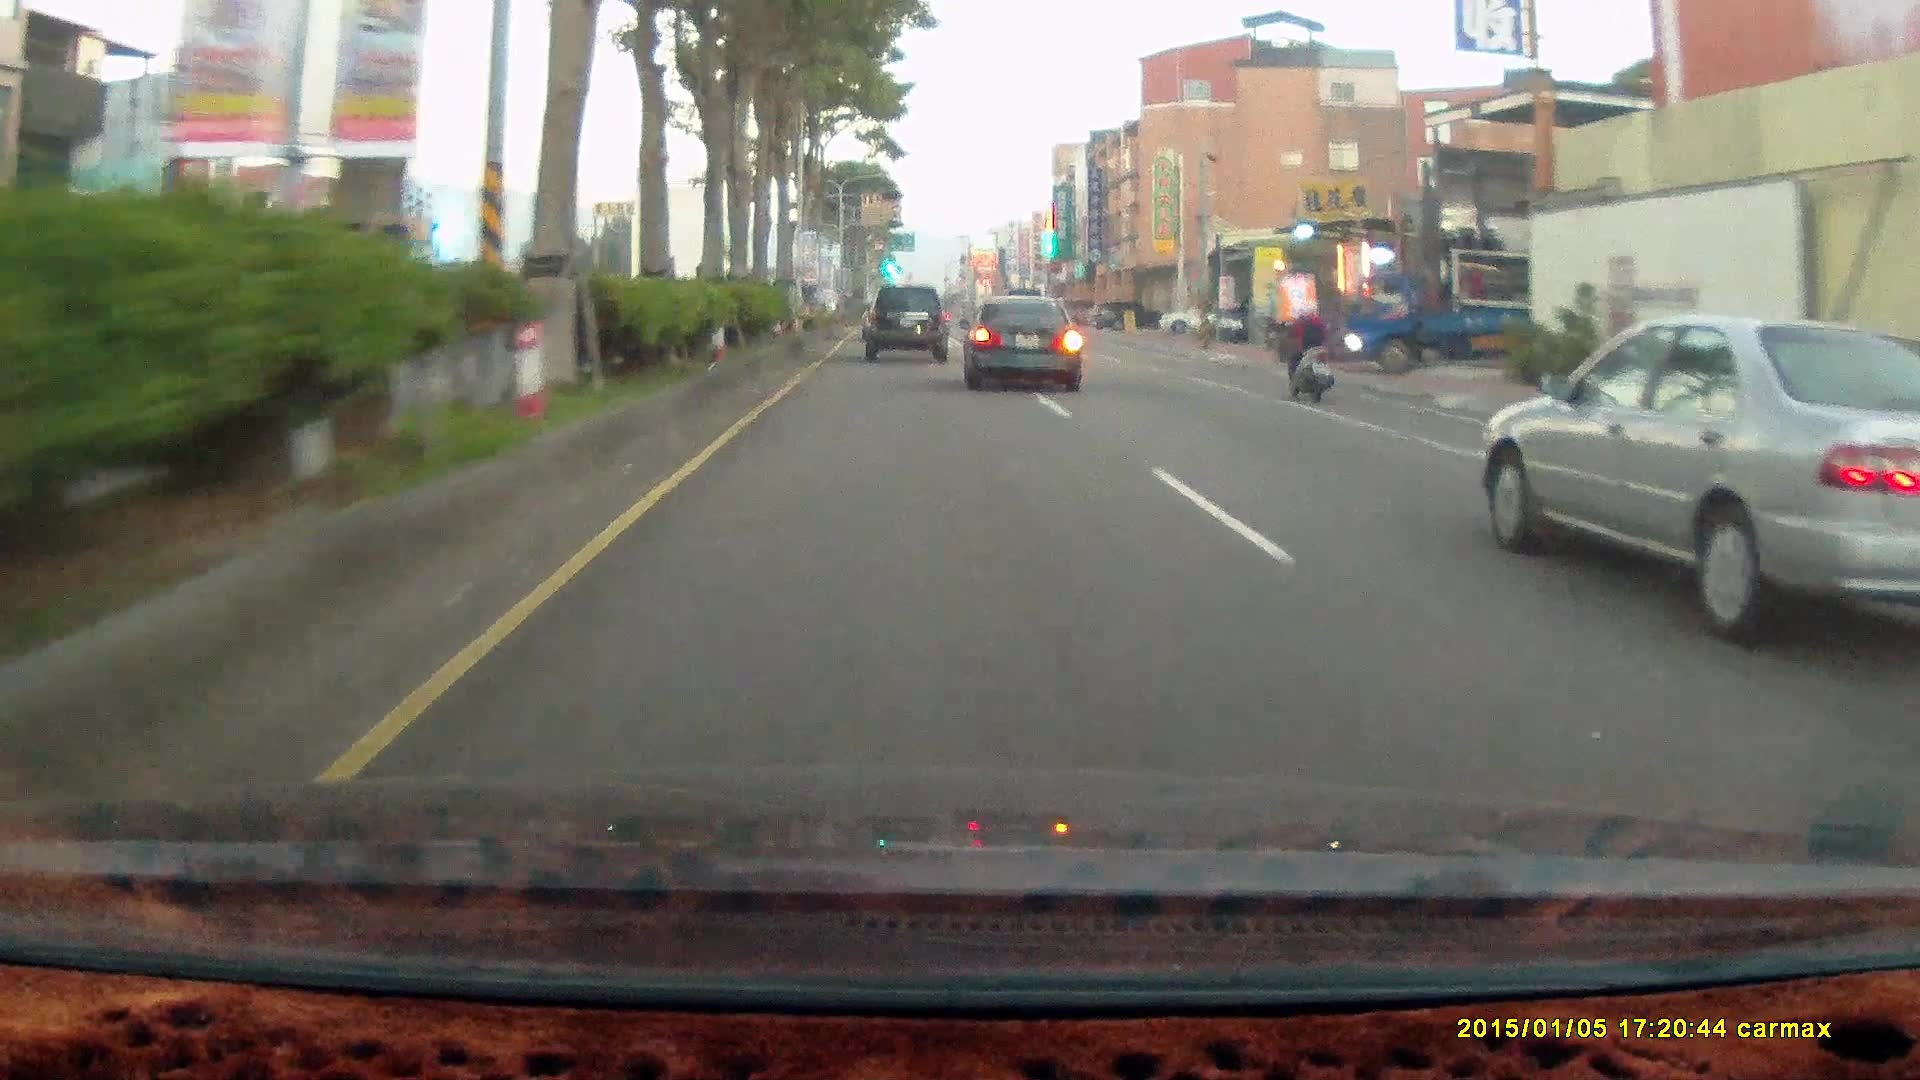rider: (1272, 293, 1345, 417), (1281, 290, 1338, 396)
vehicle: (1476, 312, 1920, 645), (1477, 312, 1920, 643), (1342, 270, 1581, 375), (1345, 268, 1529, 363), (955, 293, 1081, 391), (970, 295, 1092, 386), (861, 284, 948, 360), (864, 282, 953, 356), (1159, 306, 1233, 339), (1090, 300, 1164, 331)
